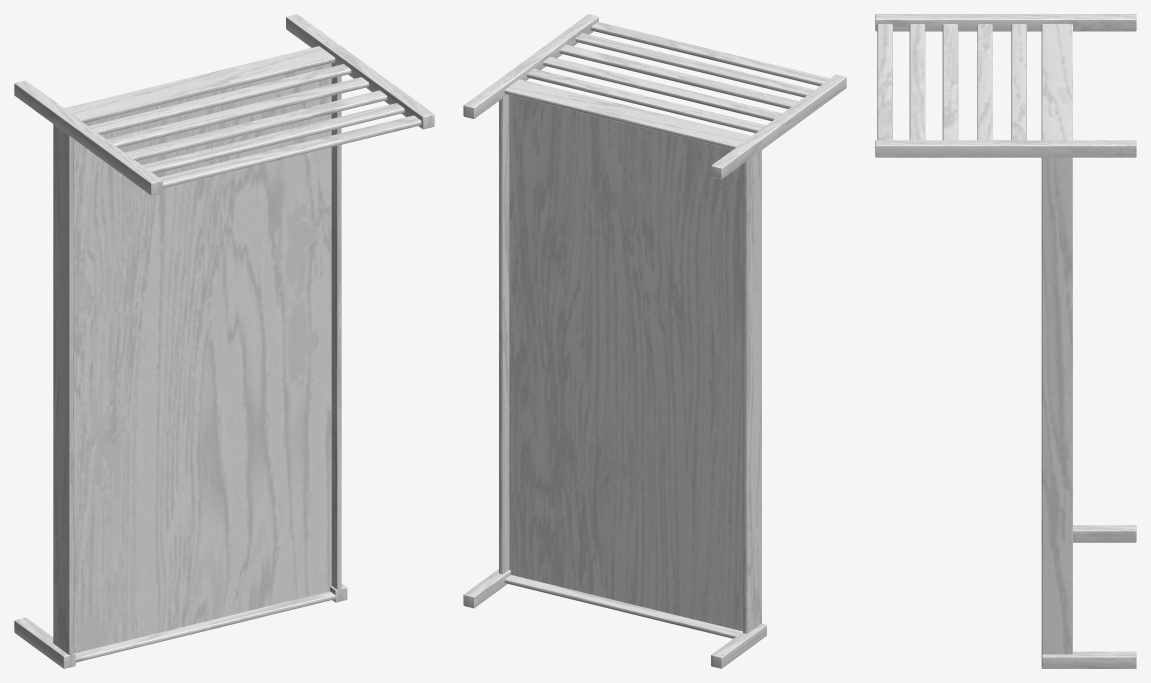
Rendered from MeshRobothorBedTarva_0.obj.
3 renders of one model, left to right at view 1: azimuth 30°, elevation 25°; view 2: azimuth 150°, elevation 25°; view 3: azimuth 270°, elevation 25°, orthographic. The views are drawn at different scales.
Visible parts, largest first — view 1: RobothorBedTarva; view 2: RobothorBedTarva; view 3: RobothorBedTarva.
Part boxes in pixels (x1,y1,x2,y2): RobothorBedTarva: [14, 14, 434, 668]; RobothorBedTarva: [463, 14, 846, 668]; RobothorBedTarva: [875, 14, 1136, 668].
Bounding box in the file's own units: 1.1 × 2.03 × 0.9209.
